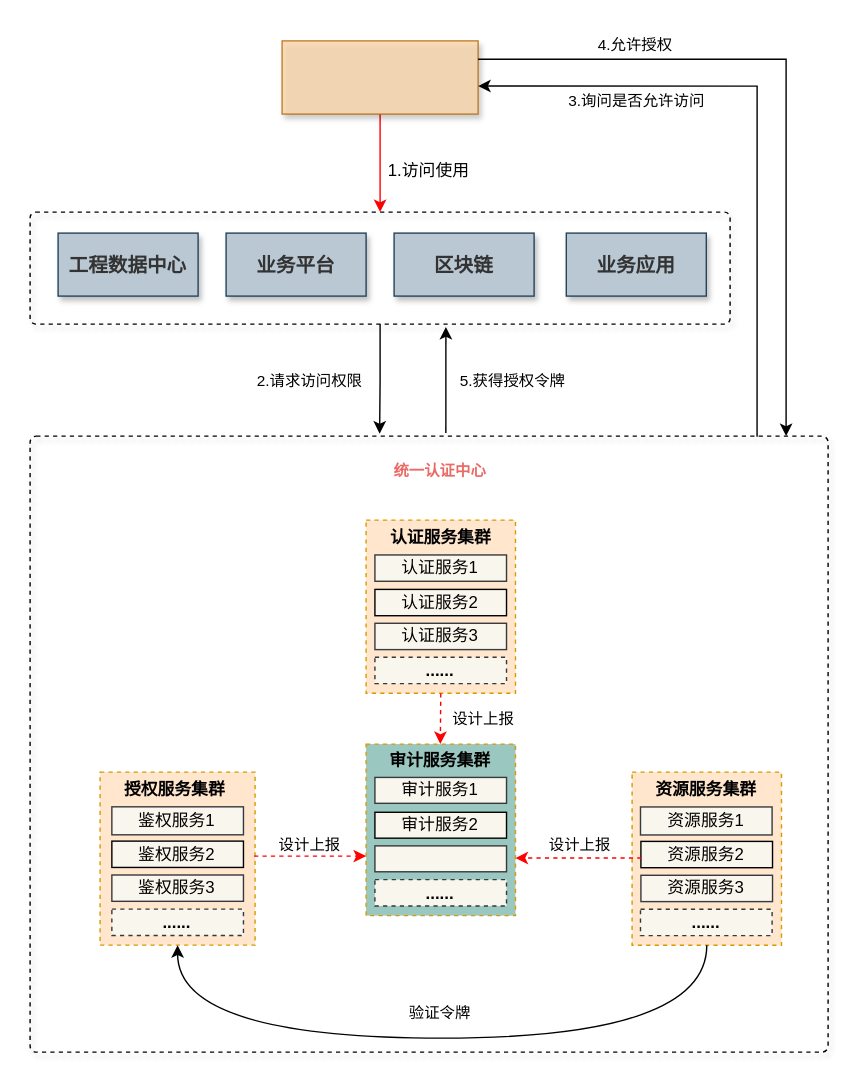
This 861x1086 diagram has some shape labels left out. Here are the shapes that lost their labels. From the top down, the centre of each, then its label:
(x=380, y=79): 用户 （资源拥有者）
(x=440, y=858): 审计服务3
